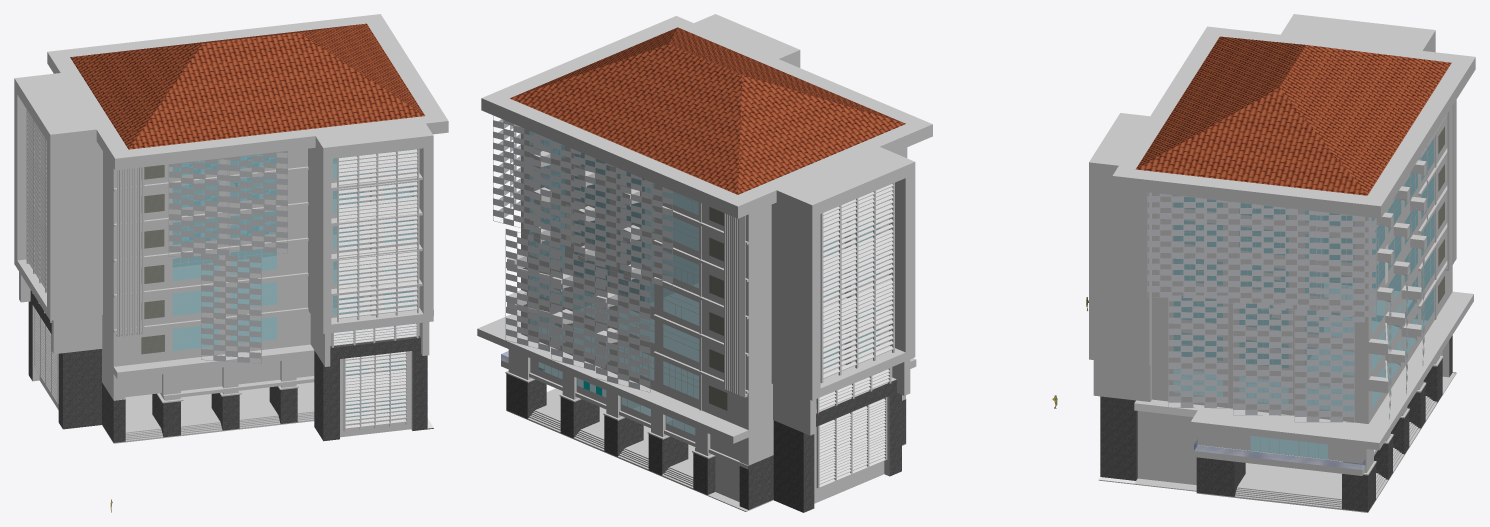
Rendered from gedung_pemb_feb.glb.
The picture shows the model from 3 angles, left to right: view 1: azimuth 30°, elevation 25°; view 2: azimuth 150°, elevation 25°; view 3: azimuth 270°, elevation 25°; orthographic projection. The views are drawn at different scales.
Visible parts, largest first — view 1: Object_18, Object_4, Object_19, Object_2, Object_16, Object_13, Object_17, Object_3; view 2: Object_18, Object_4, Object_16, Object_2, Object_19, Object_13, Object_17, Object_3; view 3: Object_18, Object_4, Object_16, Object_13, Object_2, Object_12, Object_15, Object_3.
Part boxes in pixels (<box>): Object_18: <box>14,14,448,443</box>; Object_4: <box>70,23,424,149</box>; Object_19: <box>26,109,418,322</box>; Object_2: <box>28,290,433,442</box>; Object_16: <box>168,151,287,363</box>; Object_13: <box>172,149,414,417</box>; Object_17: <box>34,308,407,431</box>; Object_3: <box>141,165,164,354</box>; Object_18: <box>477,14,932,511</box>; Object_4: <box>510,27,905,194</box>; Object_16: <box>493,115,672,392</box>; Object_2: <box>506,374,905,512</box>; Object_19: <box>539,183,894,383</box>; Object_13: <box>529,131,881,484</box>; Object_17: <box>816,397,887,488</box>; Object_3: <box>709,207,727,410</box>; Object_18: <box>1089,14,1475,512</box>; Object_4: <box>1135,36,1451,195</box>; Object_16: <box>1147,146,1427,422</box>; Object_13: <box>1173,138,1434,459</box>; Object_2: <box>1100,335,1452,511</box>; Object_12: <box>1194,439,1365,469</box>; Object_15: <box>1099,244,1387,483</box>; Object_3: <box>1438,126,1444,303</box>.
Bounding box in the file's own units: 54.04 × 43.15 × 41.53.
Materials: 16 (4 with a texture image).
